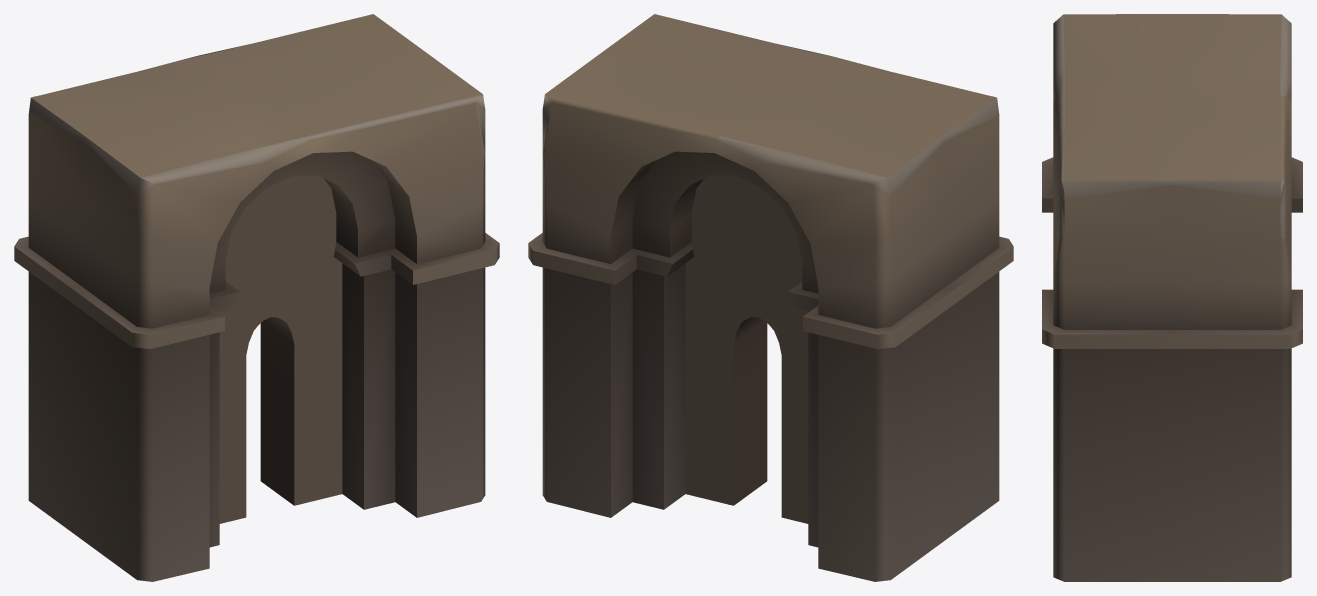
Rendered from buildings-ruins-cathedralruins_v6.glb.
The picture shows the model from 3 angles, left to right: view 1: azimuth 30°, elevation 25°; view 2: azimuth 150°, elevation 25°; view 3: azimuth 270°, elevation 25°; orthographic projection.
Parts seen in each view (by area): view 1: CathedralRuins_v6; view 2: CathedralRuins_v6; view 3: CathedralRuins_v6.
Part boxes in pixels (x1,y1,x2,y2): CathedralRuins_v6: (14,14,499,581); CathedralRuins_v6: (528,14,1013,581); CathedralRuins_v6: (1042,14,1302,581).
Size of the model in its own units: 10.2 by 10.69 by 6.3.
